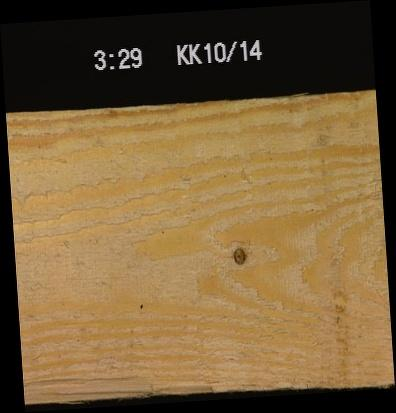dry_knot: (230, 243, 247, 267)
wave: (64, 377, 221, 403)
